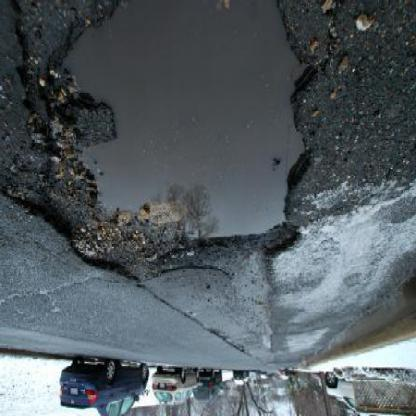pothole: (11, 2, 322, 288)
